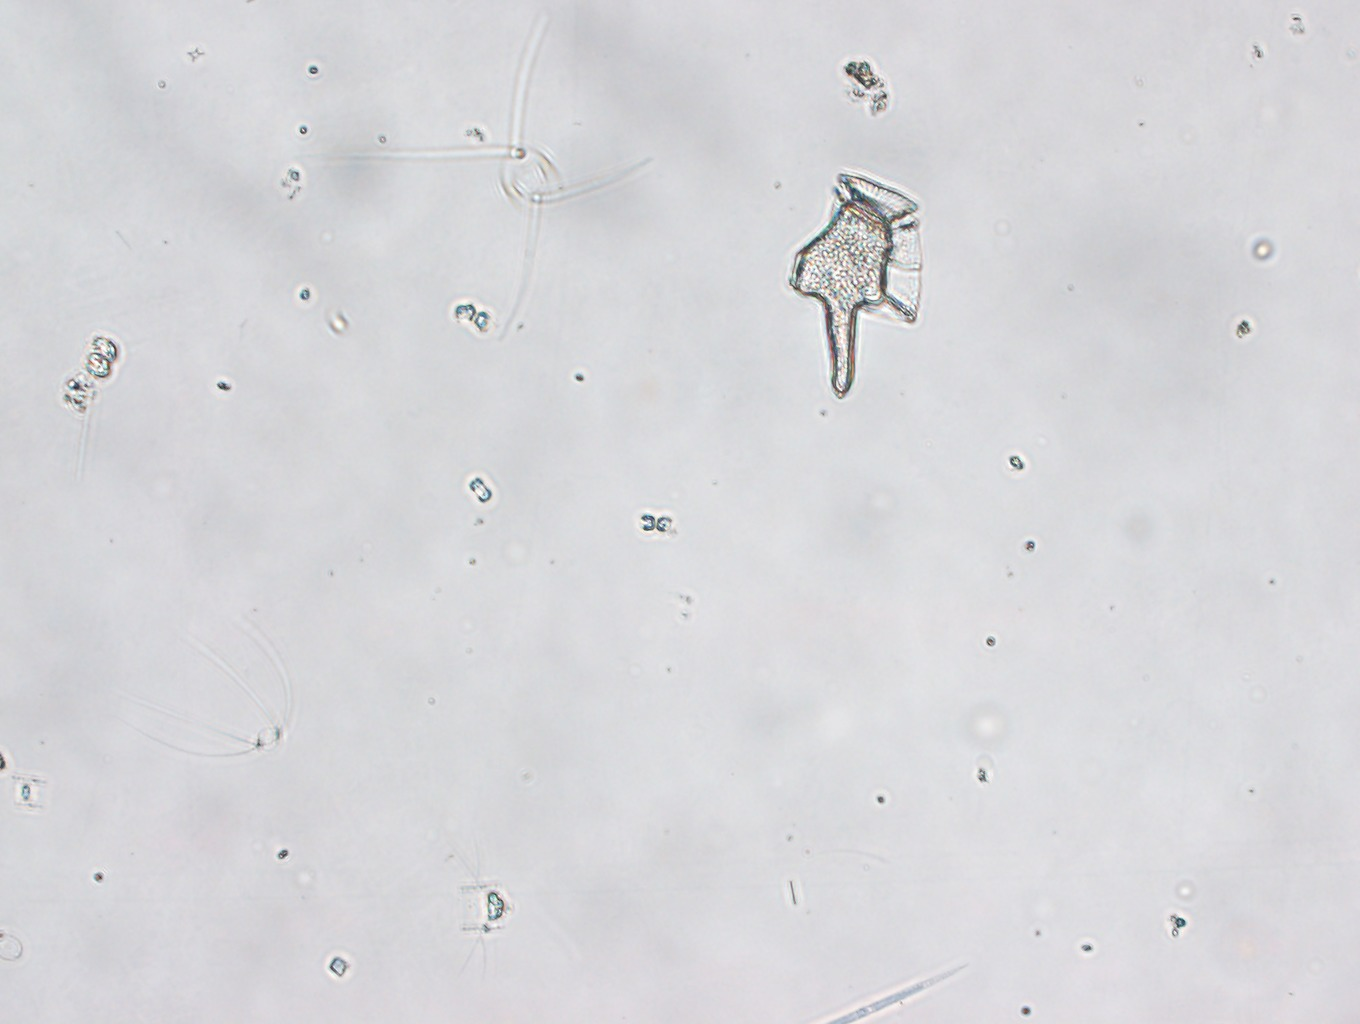chaetoceros: (329, 10, 658, 341), (110, 618, 294, 758), (455, 833, 517, 994)
dinophysis caudata: (789, 169, 924, 399)
skeletonema: (58, 329, 119, 415)
